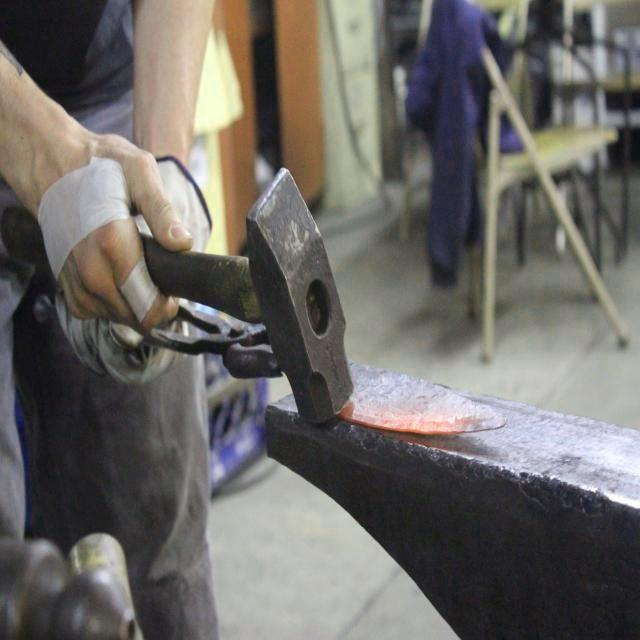hammer: (0, 153, 359, 428)
